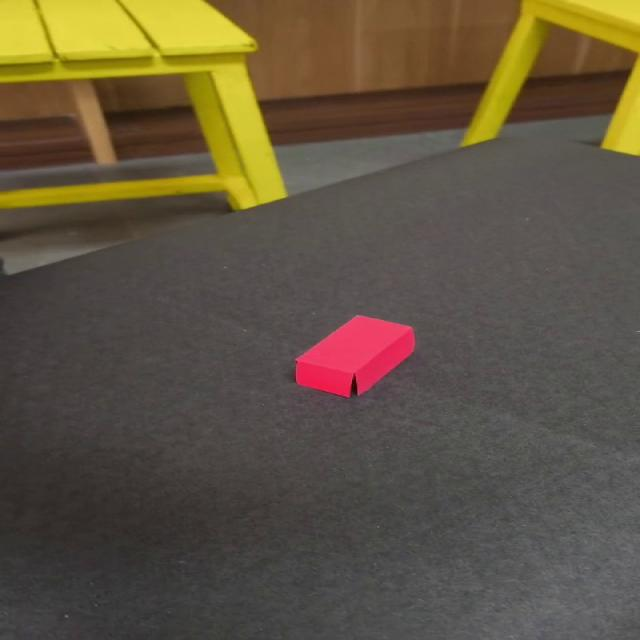red block: (292, 313, 416, 398)
